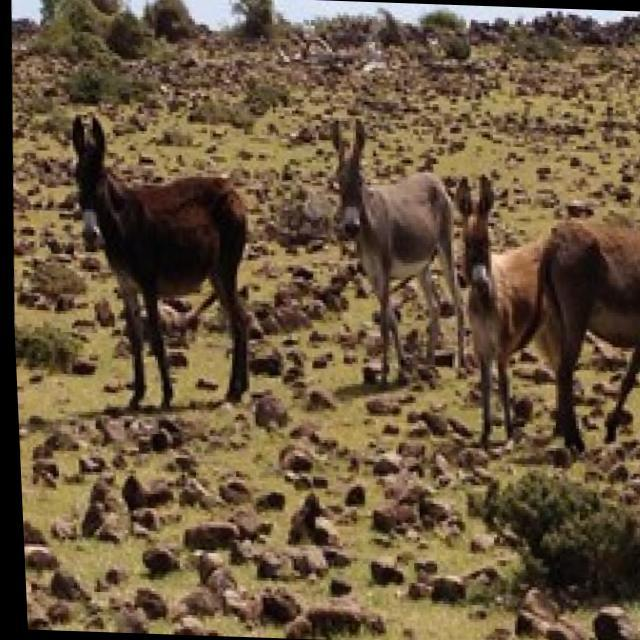Donkey: (61, 110, 262, 412), (319, 115, 473, 388), (444, 170, 558, 448), (522, 213, 640, 454)
